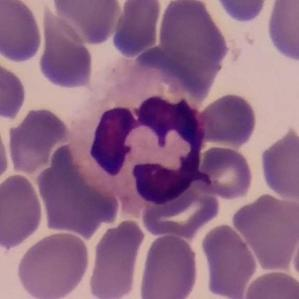Neutrophil: (72, 52, 213, 215)
RBC: (34, 142, 124, 236), (156, 0, 231, 77), (230, 191, 299, 272), (137, 176, 222, 240), (14, 230, 92, 299), (86, 217, 146, 299), (35, 14, 95, 92), (199, 221, 259, 299), (5, 105, 72, 174), (135, 231, 201, 299), (196, 90, 260, 150), (0, 171, 45, 251), (194, 143, 256, 201), (49, 0, 123, 46), (258, 124, 299, 203), (110, 0, 162, 59), (0, 0, 44, 64), (264, 0, 299, 64), (241, 268, 299, 299), (0, 57, 28, 121), (208, 0, 275, 26), (49, 0, 123, 21), (0, 114, 11, 191), (290, 221, 299, 292)
